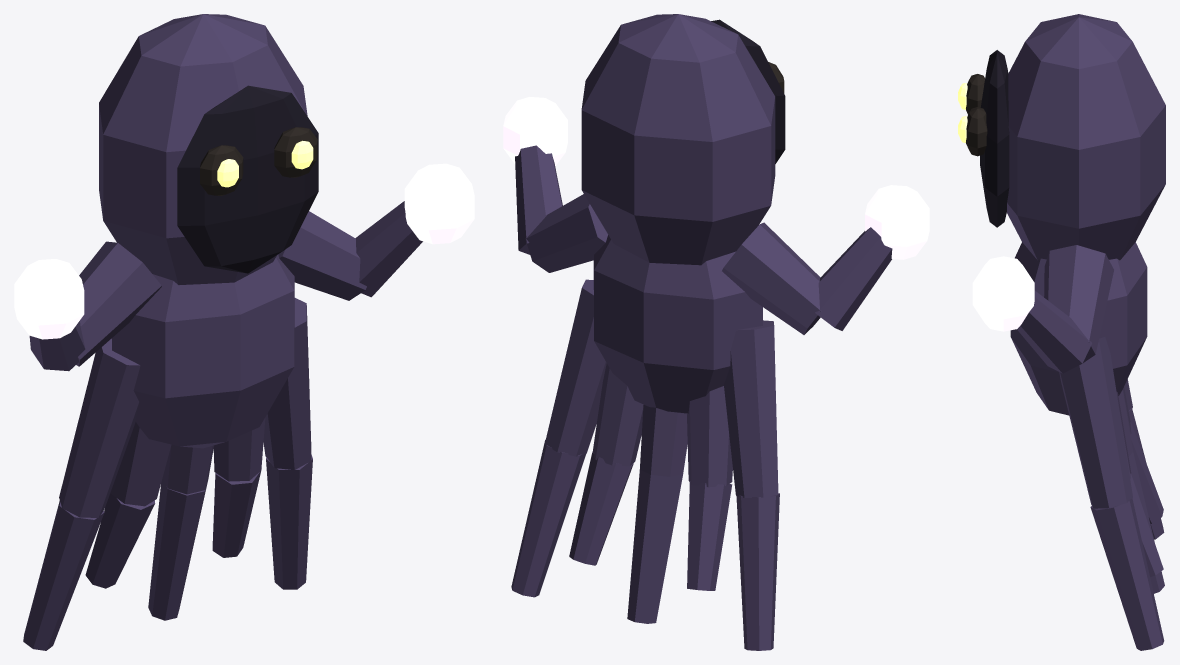
File: fauna-gloomwraith.glb
The picture shows the model from 3 angles, left to right: view 1: azimuth 30°, elevation 25°; view 2: azimuth 150°, elevation 25°; view 3: azimuth 270°, elevation 25°; orthographic projection. The views are drawn at different scales.
Visible parts, largest first — view 1: Fauna_gloomwraith; view 2: Fauna_gloomwraith; view 3: Fauna_gloomwraith.
Boxes of the visible parts, box(x1,y1,x2,y2) form: Fauna_gloomwraith: box(14, 14, 474, 650); Fauna_gloomwraith: box(503, 14, 929, 650); Fauna_gloomwraith: box(958, 14, 1165, 650).
Bounding box in the file's own units: 1.47 × 1.94 × 0.6361.
